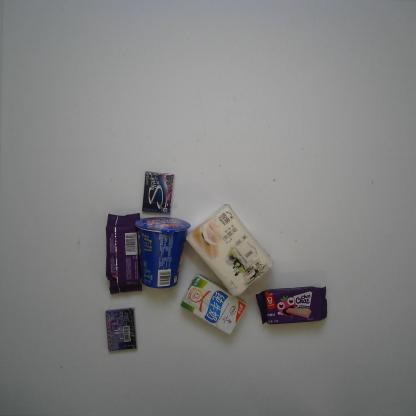Dessert: (133, 215, 192, 290), (104, 212, 144, 296), (255, 285, 329, 326)
Gum: (104, 304, 138, 352), (141, 170, 175, 215)
Milk: (178, 272, 249, 338)
Tissue: (185, 202, 274, 298)
